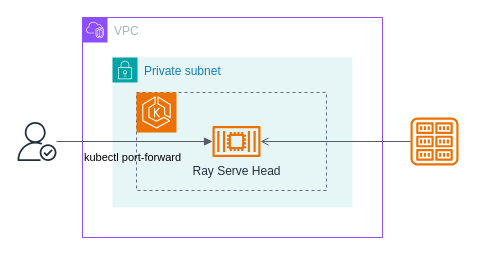
Some shapes in this 488 by 255 pixel diagram are drawn without their labels. Each missing label, with the centre of its shape:
Amazon ECR: the point at 434,141
User: the point at 36,141
